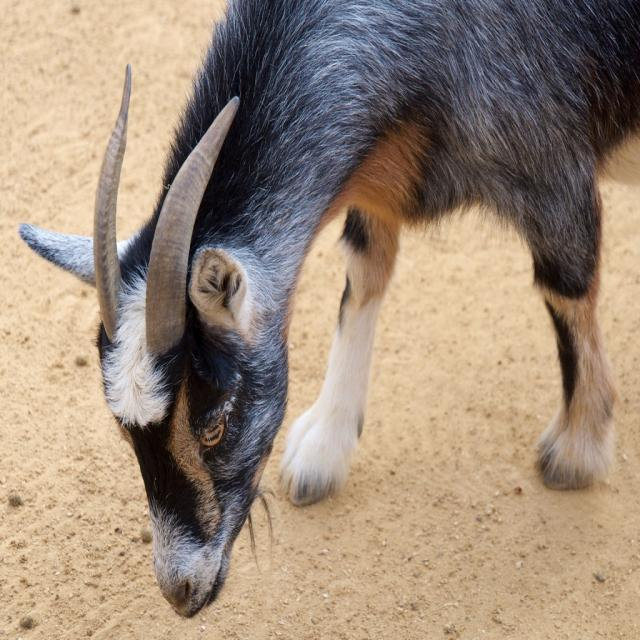Goat: (29, 28, 640, 589)
